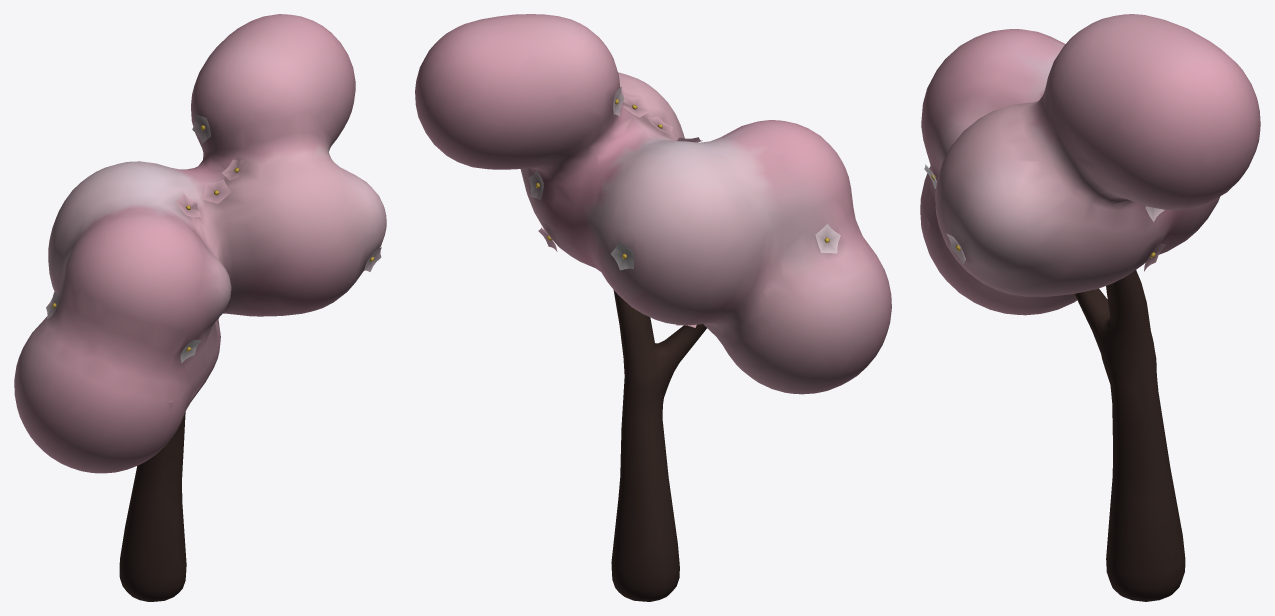
Rendered from tree_04_3.glb.
3 views of the same model, side by side, from view 1: azimuth 30°, elevation 25°; view 2: azimuth 150°, elevation 25°; view 3: azimuth 270°, elevation 25° (orthographic). The views are drawn at different scales.
Visible parts, largest first — view 1: canopy, bark, blooms; view 2: canopy, bark, blooms; view 3: canopy, bark, blooms.
Boxes of the visible parts, box(x1,y1,x2,y2) form: canopy: box(14, 14, 386, 473); bark: box(119, 412, 186, 601); blooms: box(46, 114, 381, 362); canopy: box(415, 14, 891, 394); bark: box(611, 290, 706, 601); blooms: box(528, 86, 840, 327); canopy: box(920, 14, 1260, 315); bark: box(1075, 270, 1185, 601); blooms: box(924, 91, 1166, 271).
Size of the model in its own units: 2.34 by 3.13 by 1.52.
